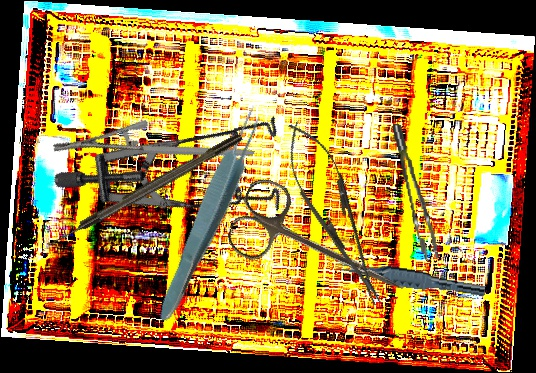Hook Surgical: (44, 132, 245, 250)
Iris Scissors: (222, 173, 422, 322)
Needle Holder: (51, 83, 255, 219), (270, 113, 399, 315)
Speculum: (50, 38, 316, 284)
Tissue Forceps: (150, 101, 272, 328), (392, 120, 439, 264), (334, 258, 487, 298)
